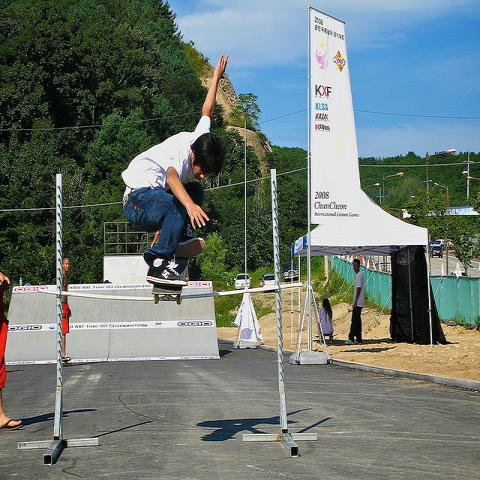car: (282, 262, 298, 282), (234, 273, 252, 290), (430, 245, 444, 258), (260, 274, 274, 287), (430, 239, 446, 250), (447, 239, 454, 249)
